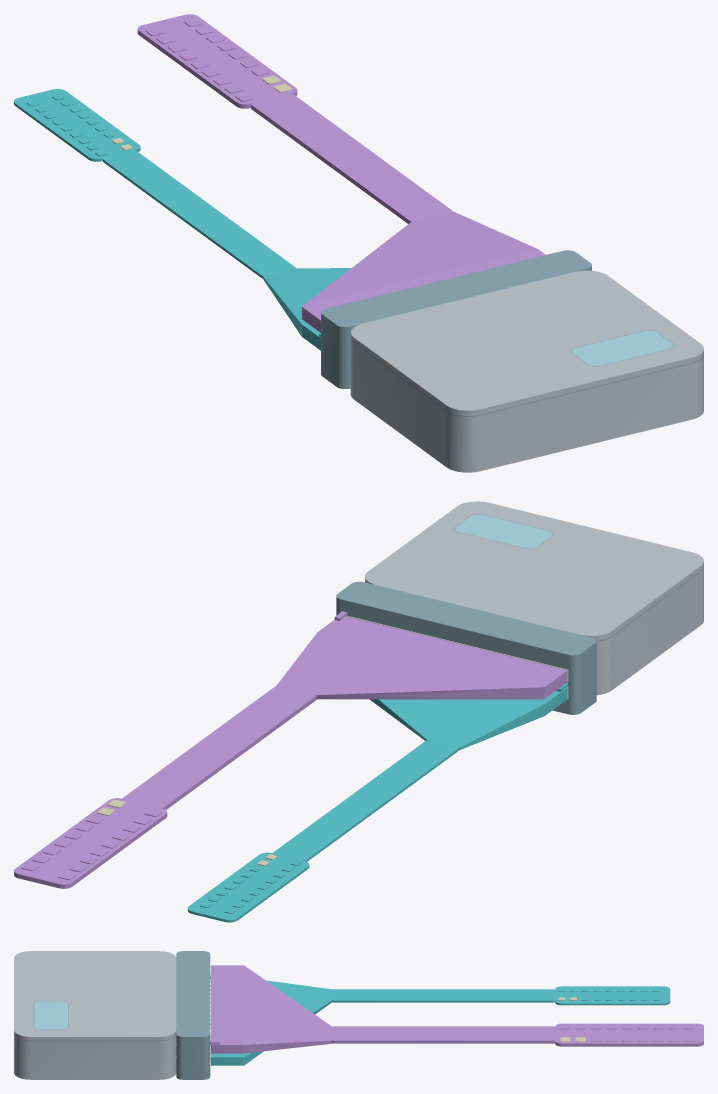
Rendered from future.glb.
The picture shows the model from 3 angles, top to bottom: view 1: azimuth 30°, elevation 25°; view 2: azimuth 150°, elevation 25°; view 3: azimuth 270°, elevation 25°; orthographic projection. The views are drawn at different scales.
Visible parts, largest first — view 1: Lid, Can, Stim_Substrate, Record_Substrate, Stim_Boot, Header, Record_Boot, Stim_Plug, RF_Window; view 2: Lid, Stim_Substrate, Header, Stim_Boot, Record_Substrate, Can, Record_Boot, Stim_Plug, RF_Window; view 3: Lid, Stim_Substrate, Can, Record_Substrate, Stim_Boot, Header, Stim_Plug, Record_Boot, RF_Window, Record_Plug, Seam.
Boxes of the visible parts, x1,y1,x2,y2 form: Lid: (350, 270, 703, 415); Can: (350, 340, 703, 472); Stim_Substrate: (137, 14, 452, 223); Record_Substrate: (14, 89, 296, 278); Stim_Boot: (301, 211, 537, 318); Header: (321, 250, 591, 388); Record_Boot: (263, 268, 351, 336); Stim_Plug: (302, 249, 545, 332); RF_Window: (571, 330, 673, 365); Lid: (365, 501, 703, 640); Stim_Substrate: (14, 685, 316, 888); Header: (336, 581, 596, 714); Stim_Boot: (276, 632, 544, 699); Record_Substrate: (187, 740, 458, 922); Can: (596, 568, 703, 695); Record_Boot: (370, 699, 544, 750); Stim_Plug: (318, 611, 567, 698); RF_Window: (455, 514, 552, 548); Lid: (14, 951, 176, 1040); Stim_Substrate: (332, 1023, 703, 1046); Can: (14, 1035, 176, 1079); Record_Substrate: (332, 986, 670, 1005); Stim_Boot: (244, 965, 331, 1053); Header: (176, 951, 210, 1079); Stim_Plug: (210, 965, 243, 1053); Record_Boot: (244, 980, 331, 1065); RF_Window: (34, 1001, 67, 1029); Record_Plug: (210, 975, 243, 1065); Seam: (14, 1034, 176, 1041).
Bounding box in the file's own units: 0.06 × 0.014 × 0.204.
